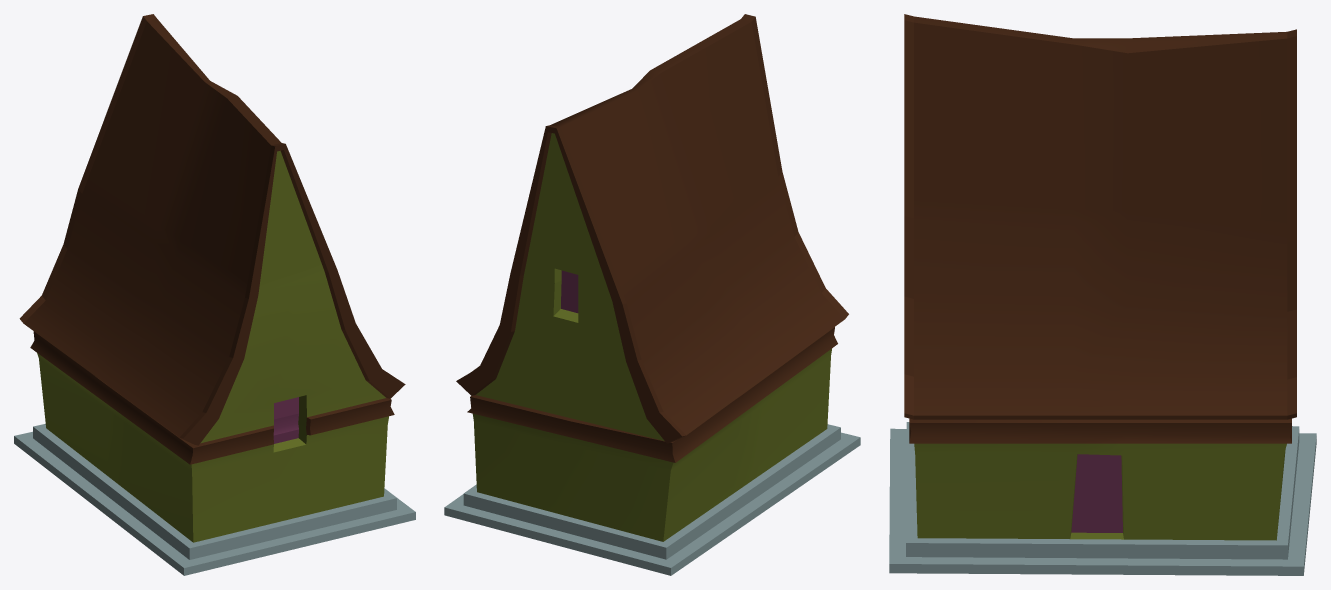
File: SM_House_01.fbx
3 views of the same model, side by side, from view 1: azimuth 30°, elevation 25°; view 2: azimuth 150°, elevation 25°; view 3: azimuth 270°, elevation 25° (orthographic). The views are drawn at different scales.
Visible parts, largest first — view 1: house; view 2: house; view 3: house.
Part boxes in pixels (x1,y1,x2,y2): house: (14,14,415,575); house: (444,14,860,575); house: (889,14,1316,575).
Size of the model in its own units: 416 by 544 by 680.
